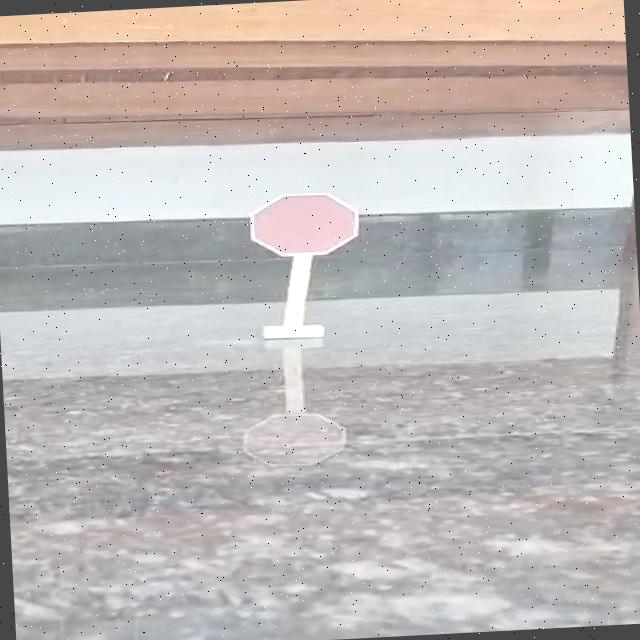Stop: (225, 177, 383, 270)
